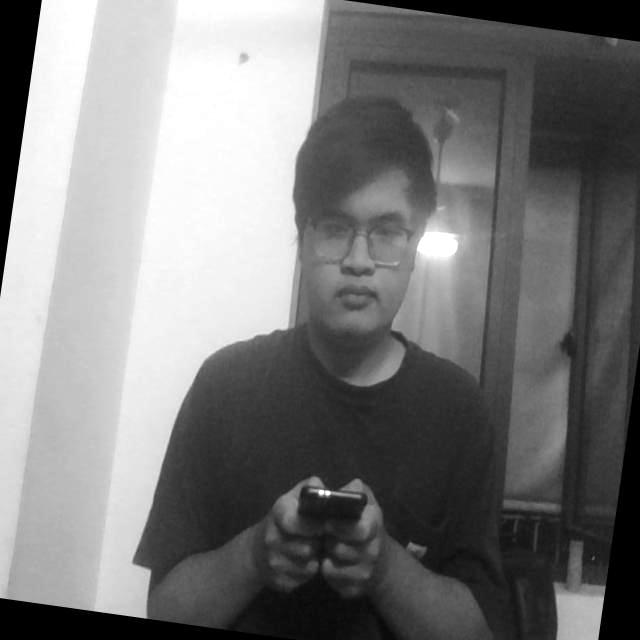phone: (272, 476, 394, 586)
